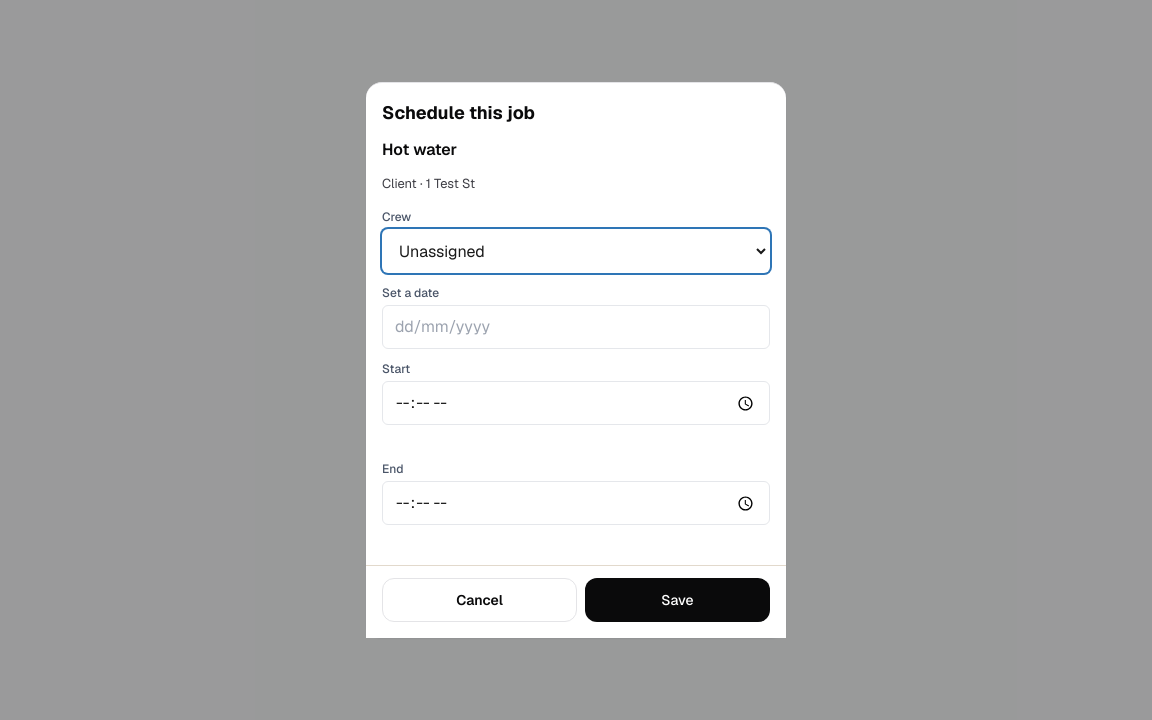
ScheduleJobSheet save › does not call onSave when the date is blank
Expected: the field labelled "Set a date" is empty, [382, 305, 770, 349]
Click the button with class "hub-editor-sticky-save": [678, 600] box [585, 578, 770, 622]
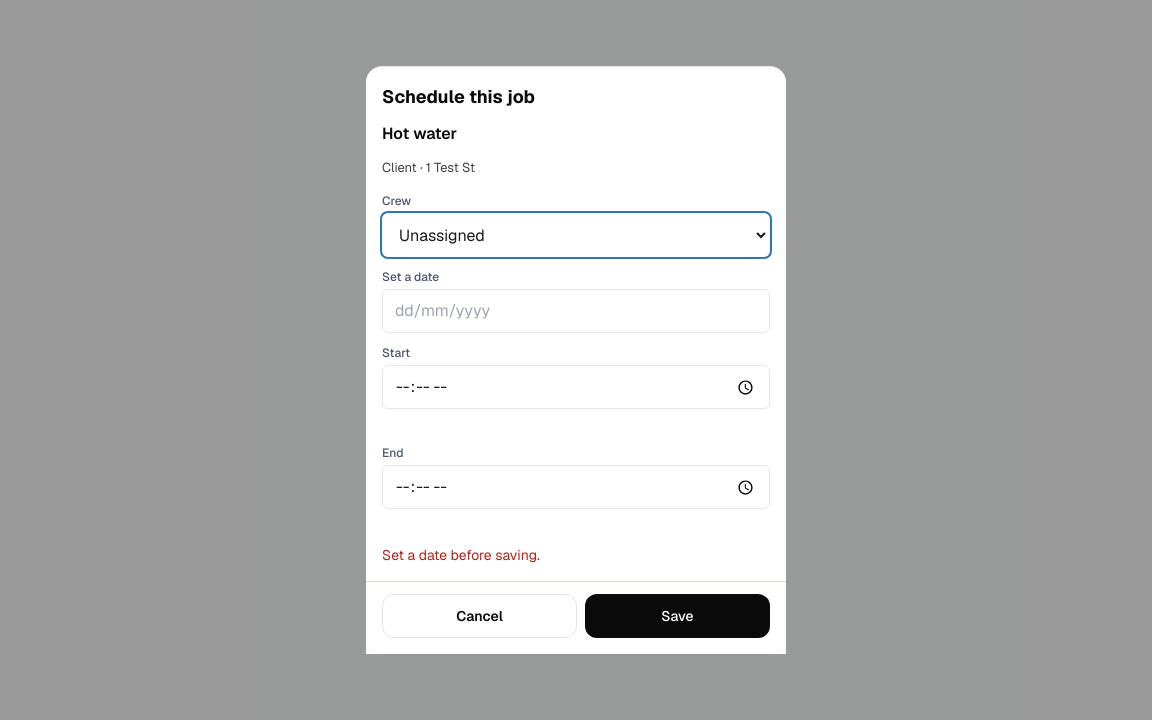
Expected: the message "Set a date before saving." is shown, [382, 546, 540, 564]
